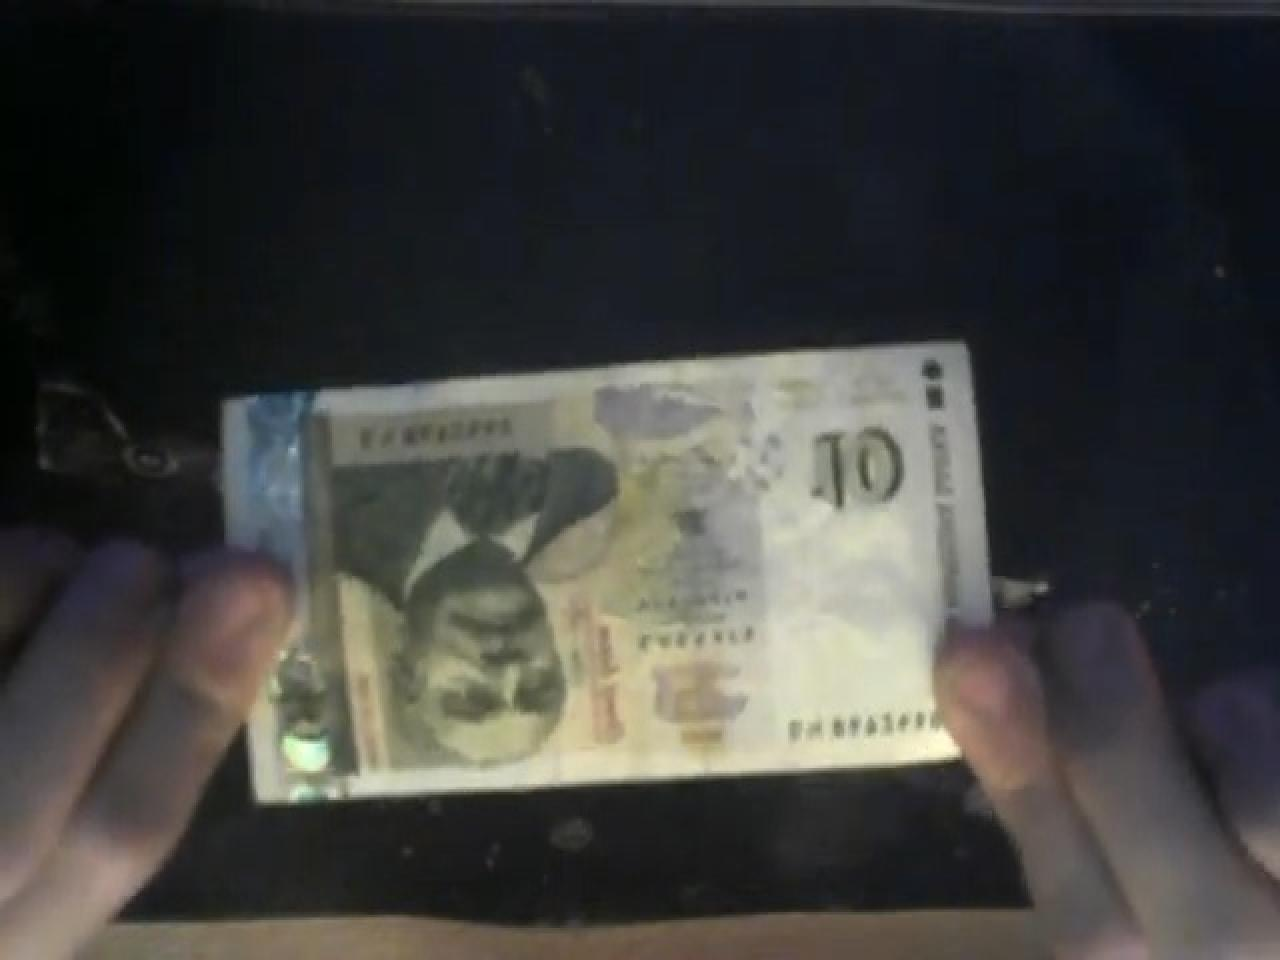10leva: (284, 336, 992, 790)
